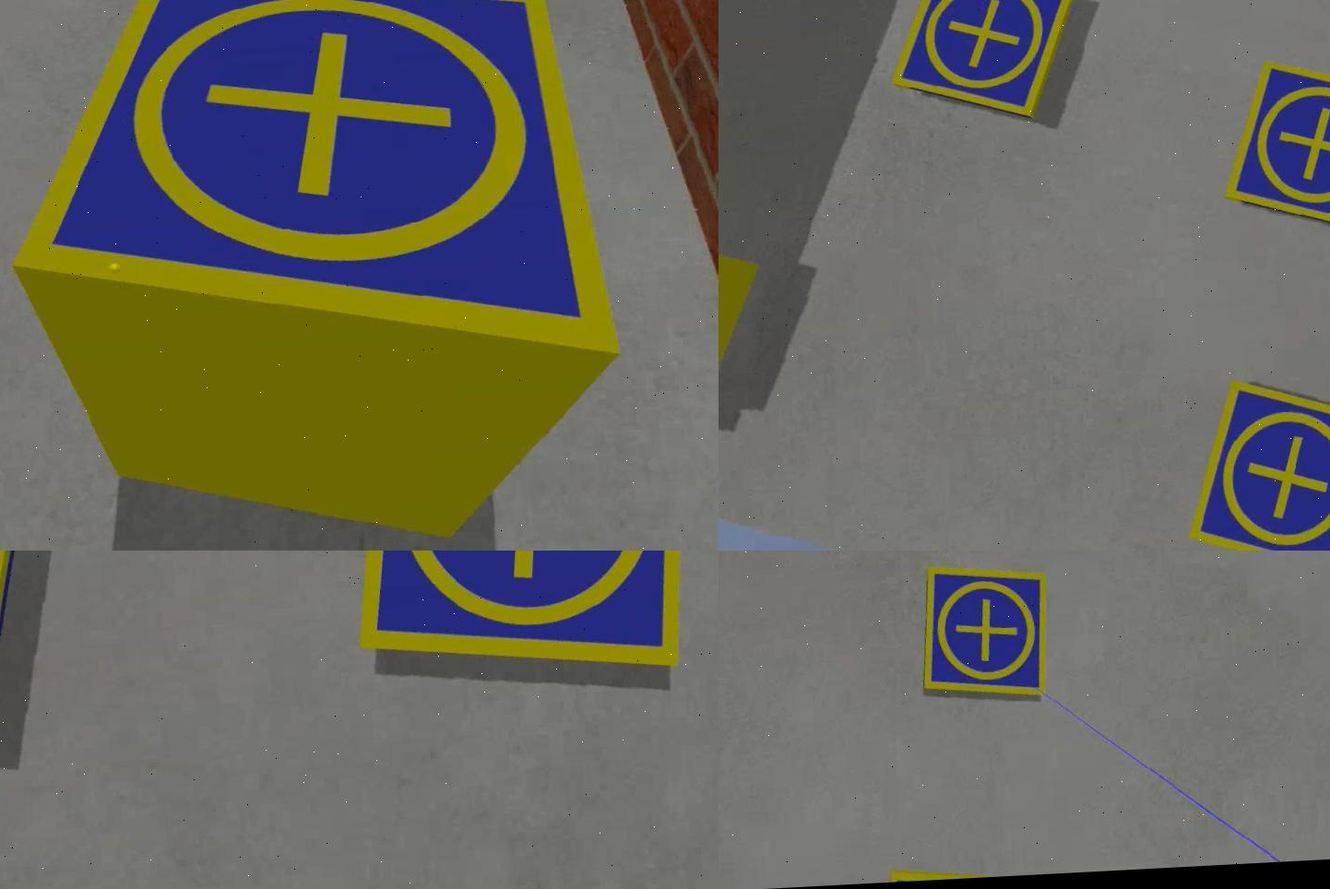small_base: (0, 1, 625, 389), (338, 551, 700, 688), (1180, 369, 1328, 551), (880, 1, 1082, 128), (1217, 53, 1328, 242), (915, 561, 1052, 703)
